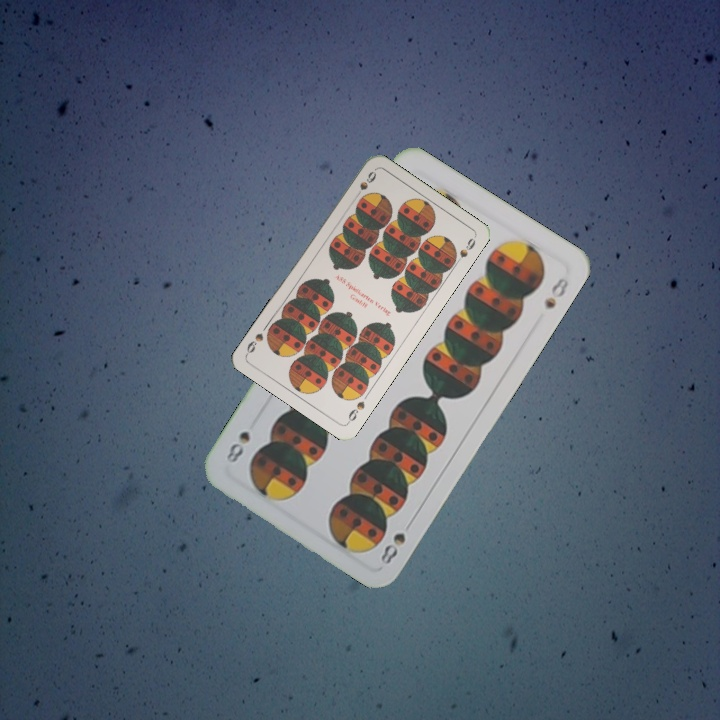S8: (376, 528, 408, 567)
S9: (343, 397, 368, 426), (355, 167, 379, 195)
